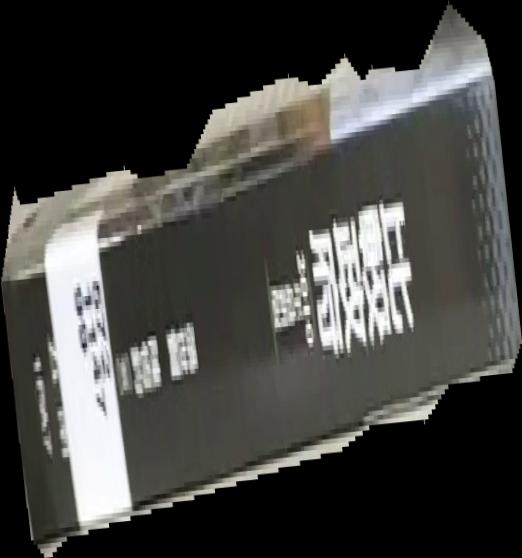flat: (1, 1, 522, 558)
